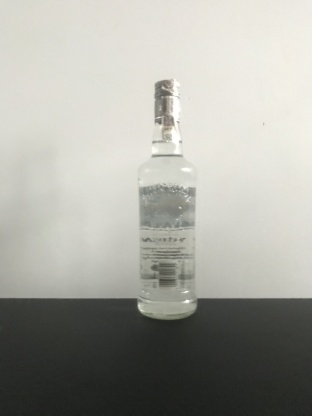nakretka: (152, 76, 182, 126)
